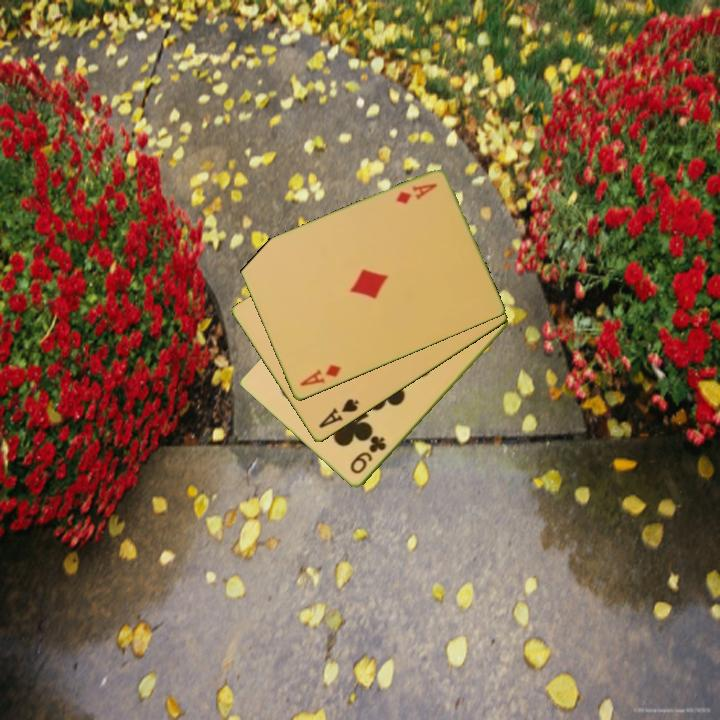9c: (346, 433, 389, 477)
Ad: (296, 361, 344, 390), (392, 180, 440, 207)
As: (315, 395, 362, 432)
